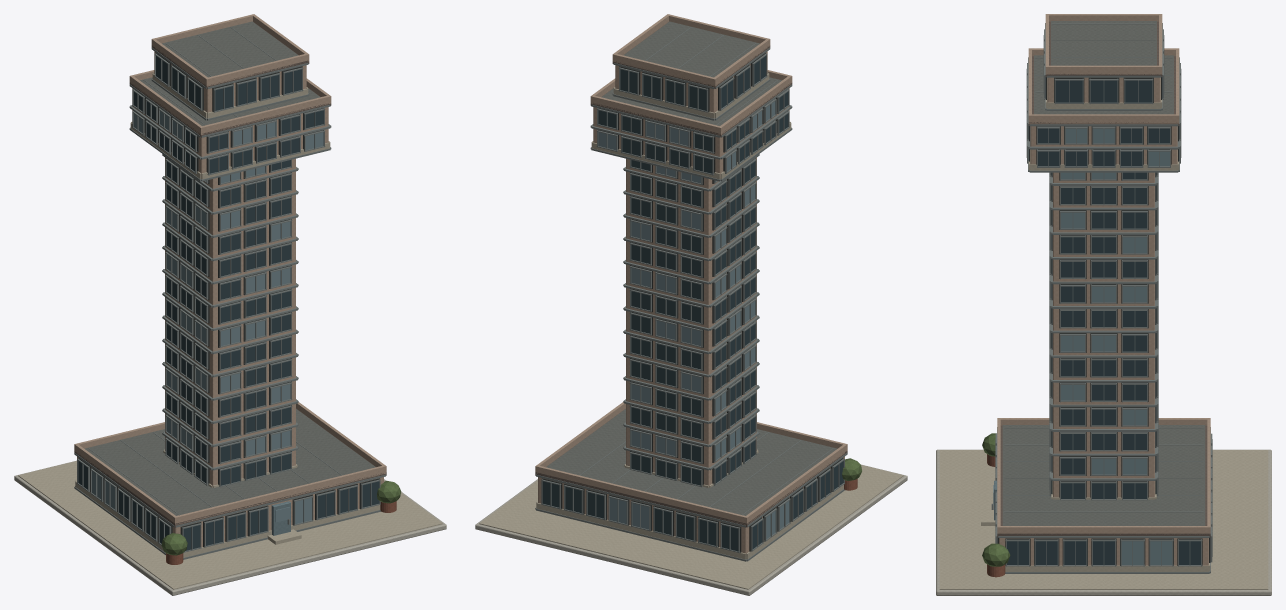
The model's file is EXP_TOWER_LANTERN.glb.
The picture shows the model from 3 angles, left to right: view 1: azimuth 30°, elevation 25°; view 2: azimuth 150°, elevation 25°; view 3: azimuth 270°, elevation 25°; orthographic projection. The views are drawn at different scales.
Parts seen in each view (by area): view 1: EXP_TOWER_LANTERN_Visual; view 2: EXP_TOWER_LANTERN_Visual; view 3: EXP_TOWER_LANTERN_Visual.
Part boxes in pixels (<box>): EXP_TOWER_LANTERN_Visual: <box>14,14,446,595</box>; EXP_TOWER_LANTERN_Visual: <box>475,14,907,595</box>; EXP_TOWER_LANTERN_Visual: <box>936,14,1271,595</box>.
Size of what is drawn, in the model's own units: 5.92 by 9.43 by 5.92.
12 materials, 8 textured.
